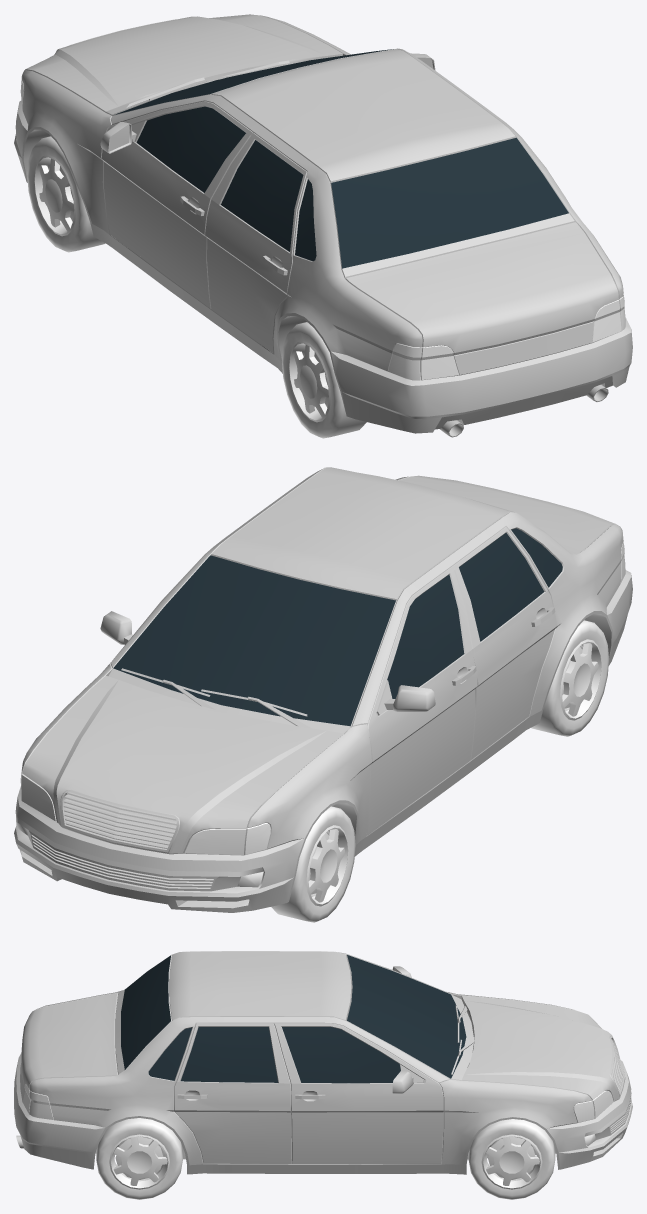
Rendered from sedan.glb.
3 renders of one model, top to bottom at view 1: azimuth 30°, elevation 25°; view 2: azimuth 150°, elevation 25°; view 3: azimuth 270°, elevation 25°, orthographic. The views are drawn at different scales.
Visible parts, largest first — view 1: sedan; view 2: sedan; view 3: sedan.
Boxes of the visible parts, x1,y1,x2,y2 form: sedan: (14,14,632,438); sedan: (14,467,632,922); sedan: (14,951,632,1199).
Size of the model in its own units: 2 by 1.39 by 4.5.
